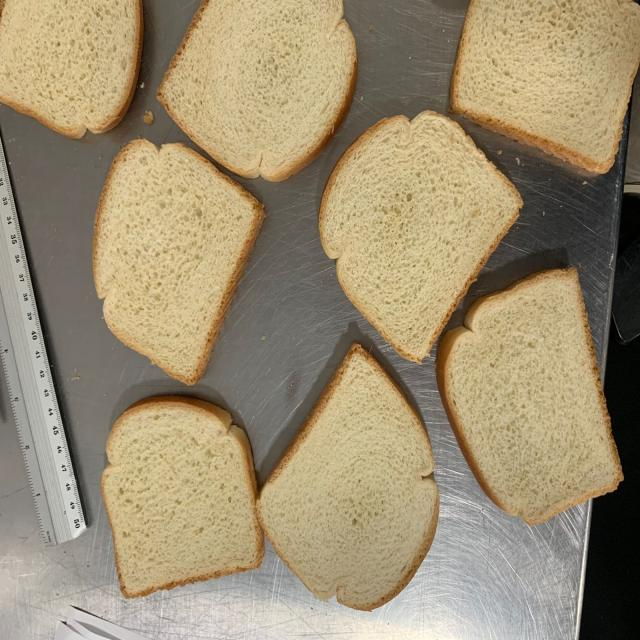pan: (319, 111, 524, 365), (257, 343, 440, 611), (436, 268, 626, 526), (94, 140, 266, 387), (101, 396, 267, 598)
